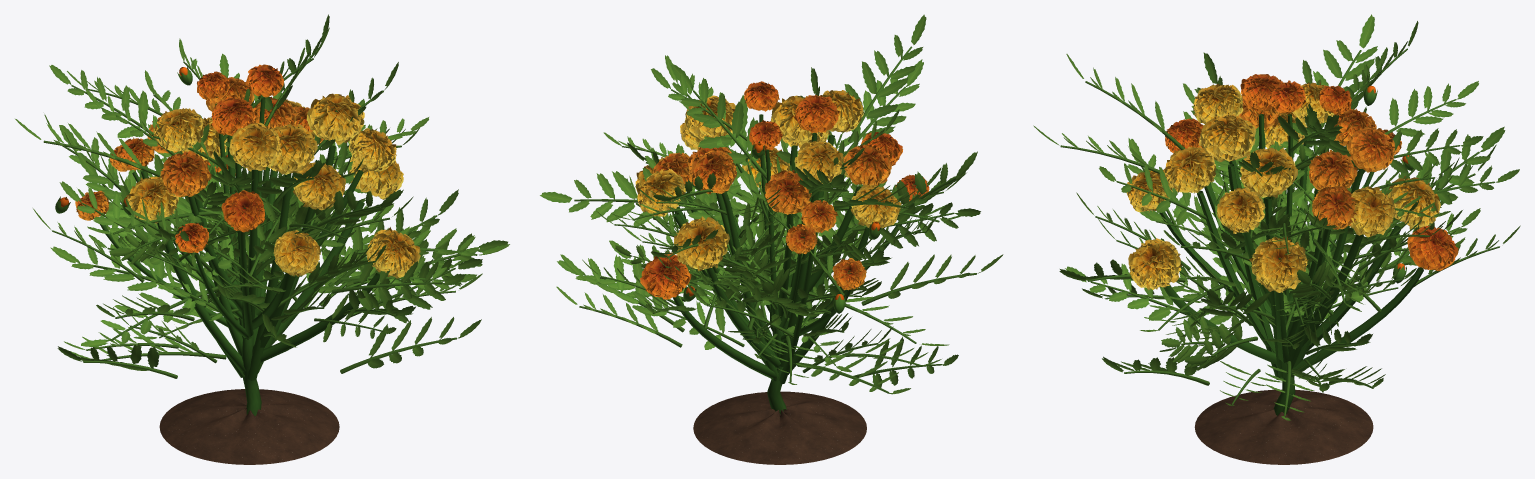
Rendered from w3_flora_cempasuchil_bush.glb.
3 renders of one model, left to right at view 1: azimuth 30°, elevation 25°; view 2: azimuth 150°, elevation 25°; view 3: azimuth 270°, elevation 25°, orthographic. The views are drawn at different scales.
Parts seen in each view (by area): view 1: w3_flora_cempasuchil_bush; view 2: w3_flora_cempasuchil_bush; view 3: w3_flora_cempasuchil_bush.
Boxes of the visible parts, x1,y1,x2,y2 form: w3_flora_cempasuchil_bush: (15, 14, 509, 464); w3_flora_cempasuchil_bush: (540, 14, 1003, 464); w3_flora_cempasuchil_bush: (1033, 14, 1520, 464).
Size of the model in its own units: 0.8647 by 0.7192 by 0.8744.
3 materials, 3 textured.
